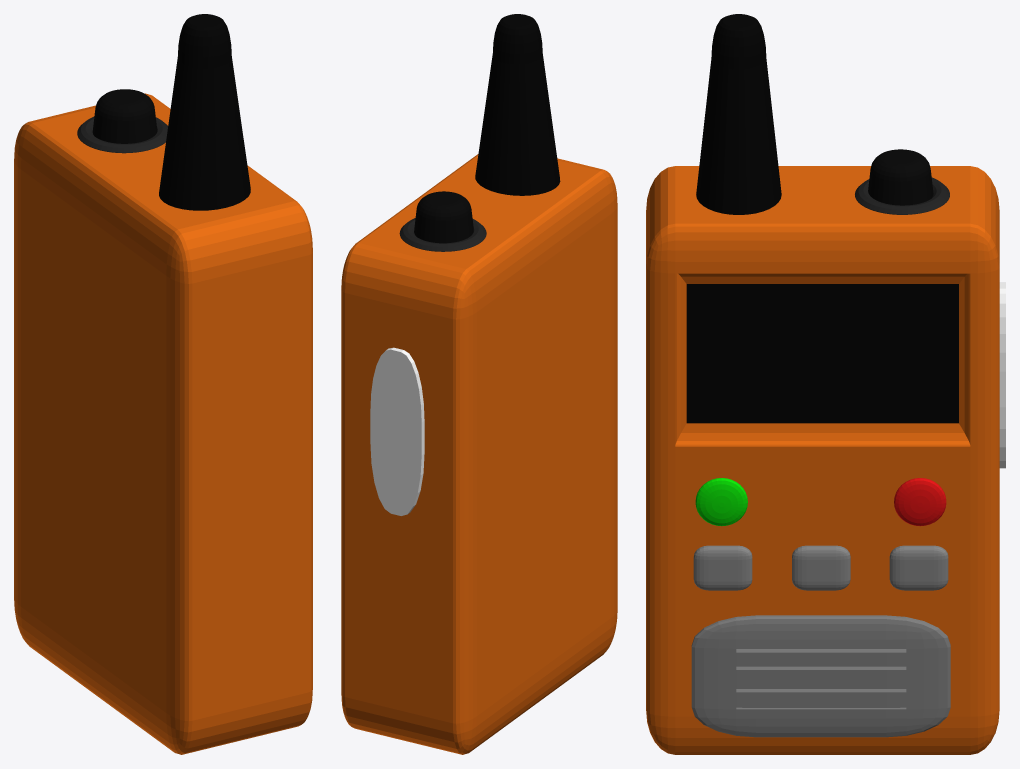
The model's file is talki walkie FINAL ENFIN.glb.
The picture shows the model from 3 angles, left to right: view 1: azimuth 30°, elevation 25°; view 2: azimuth 150°, elevation 25°; view 3: azimuth 270°, elevation 25°; orthographic projection. The views are drawn at different scales.
Parts seen in each view (by area): view 1: Cube, Cylinder, Cylinder.001, Torus; view 2: Cube, Cylinder, Cube.001, Cylinder.001, Torus; view 3: Cube, Plane, Cube.005, Cylinder, Cylinder.001, Cube.002, Cube.004, Cube.003, Cylinder.002, Cylinder.003, Torus, Cube.001.
Boxes of the visible parts, left/top/right/bottom form: Cube: left=14, top=93, right=312, bottom=754; Cylinder: left=159, top=14, right=250, bottom=210; Cylinder.001: left=92, top=89, right=157, bottom=143; Torus: left=77, top=116, right=168, bottom=153; Cube: left=341, top=154, right=617, bottom=754; Cylinder: left=475, top=14, right=560, bottom=195; Cube.001: left=370, top=347, right=424, bottom=515; Cylinder.001: left=414, top=191, right=473, bottom=243; Torus: left=399, top=218, right=486, bottom=251; Cube: left=646, top=166, right=999, bottom=754; Plane: left=686, top=284, right=958, bottom=423; Cube.005: left=691, top=615, right=950, bottom=737; Cylinder: left=696, top=14, right=781, bottom=214; Cylinder.001: left=868, top=149, right=933, bottom=205; Cube.002: left=693, top=545, right=752, bottom=590; Cube.004: left=889, top=545, right=948, bottom=590; Cube.003: left=792, top=545, right=850, bottom=590; Cylinder.002: left=695, top=478, right=747, bottom=526; Cylinder.003: left=894, top=478, right=946, bottom=526; Torus: left=855, top=177, right=949, bottom=214; Cube.001: left=999, top=282, right=1005, bottom=468.
Size of the model in its own units: 1.92 by 8.66 by 4.
